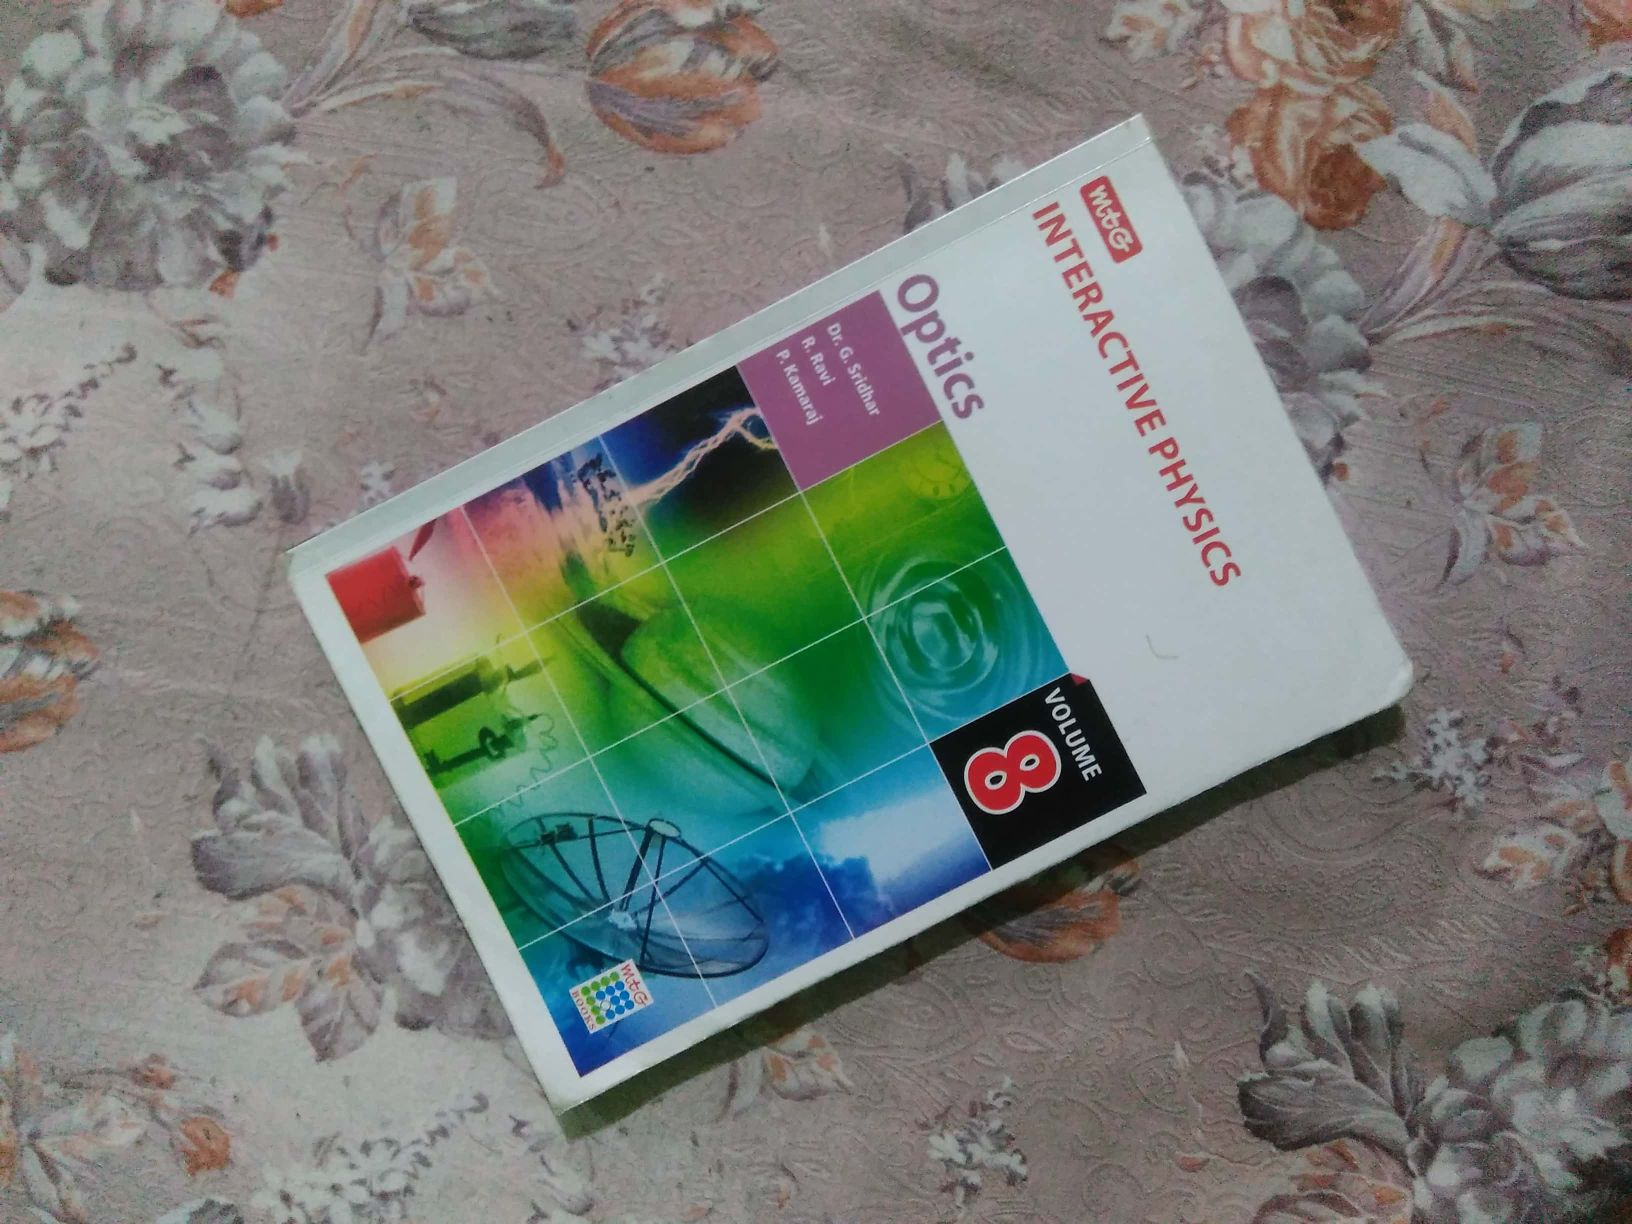optics: (337, 154, 1417, 1057)
